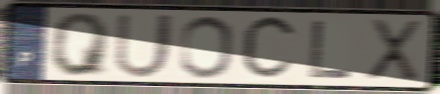C: (238, 12, 300, 85)
L: (306, 18, 355, 81)
O: (178, 14, 235, 80)
Q: (49, 11, 115, 78)
U: (111, 11, 177, 81)
X: (363, 17, 424, 85)
